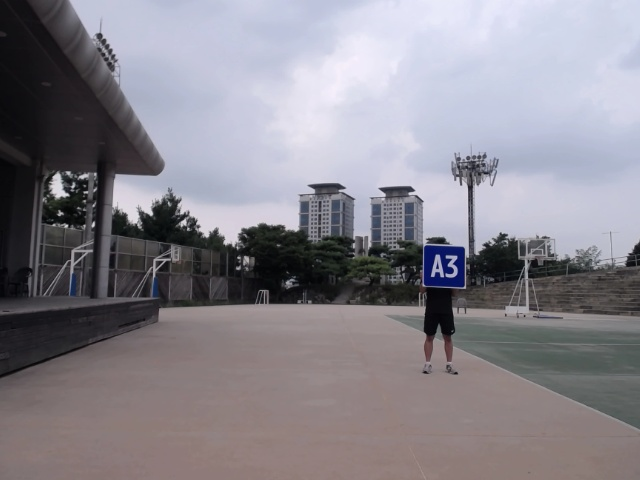delivery_a3: (422, 244, 466, 289)
